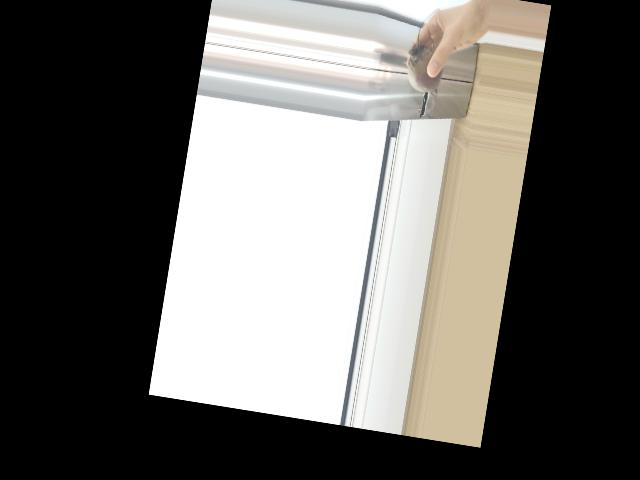beet: (401, 5, 452, 102)
